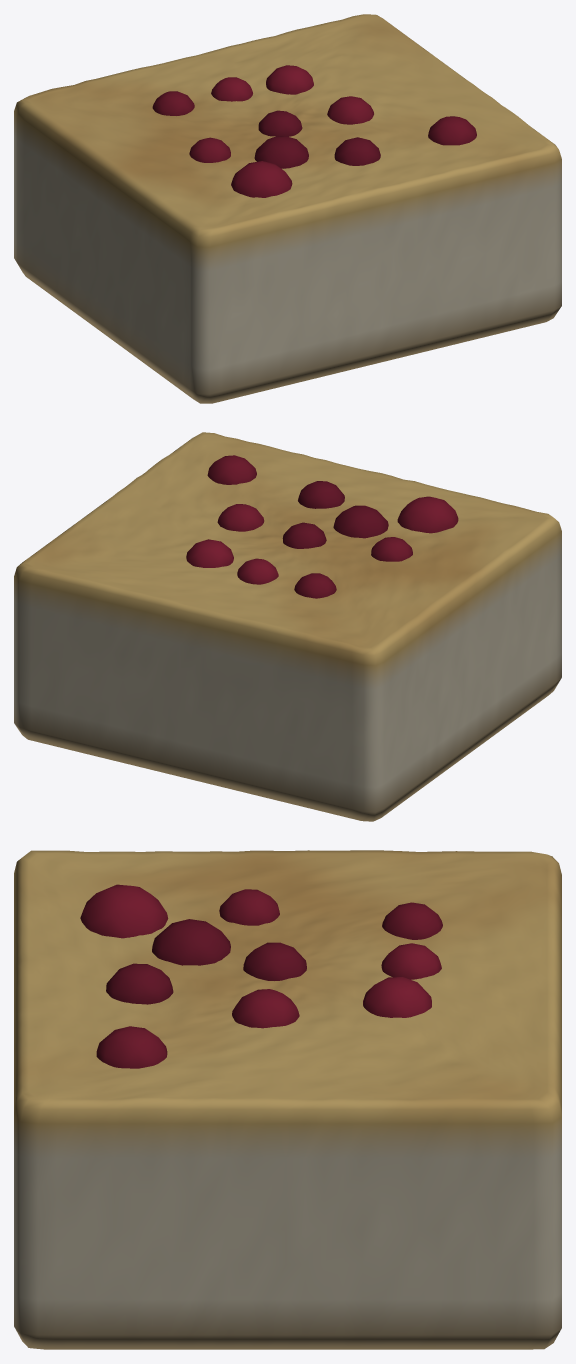
Rendered from kirsch-plotzer.glb.
The picture shows the model from 3 angles, top to bottom: view 1: azimuth 30°, elevation 25°; view 2: azimuth 150°, elevation 25°; view 3: azimuth 270°, elevation 25°; orthographic projection. The views are drawn at different scales.
Parts seen in each view (by area): view 1: kirsch-plotzer; view 2: kirsch-plotzer; view 3: kirsch-plotzer.
Boxes of the visible parts, bbox=[...] form: kirsch-plotzer: bbox=[14, 14, 561, 403]; kirsch-plotzer: bbox=[14, 432, 561, 821]; kirsch-plotzer: bbox=[14, 850, 561, 1349].
Bounding box in the file's own units: 0.1 × 0.0502 × 0.09.
